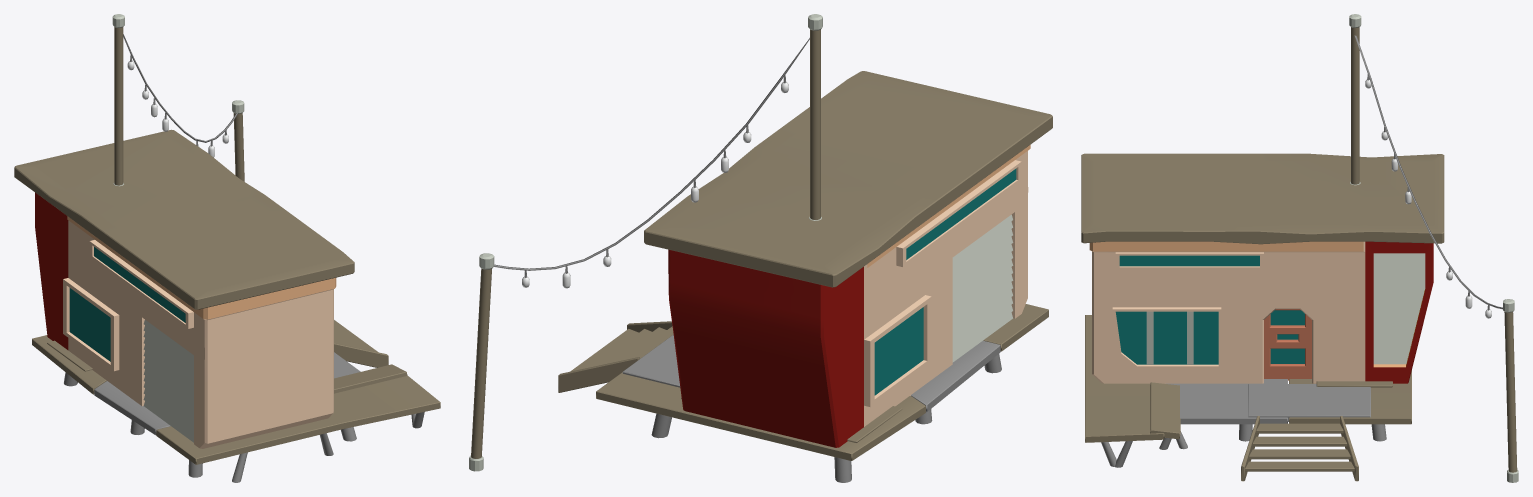
The model's file is SM_caravan_B.fbx.
3 renders of one model, left to right at view 1: azimuth 30°, elevation 25°; view 2: azimuth 150°, elevation 25°; view 3: azimuth 270°, elevation 25°, orthographic. The views are drawn at different scales.
Parts seen in each view (by area): view 1: pCube53; view 2: pCube53; view 3: pCube53.
Part boxes in pixels (x1,y1,x2,y2): pCube53: (14,14,440,482); pCube53: (469,14,1052,482); pCube53: (1081,14,1518,482).
Size of the model in its own units: 941 by 1211 by 1311.
